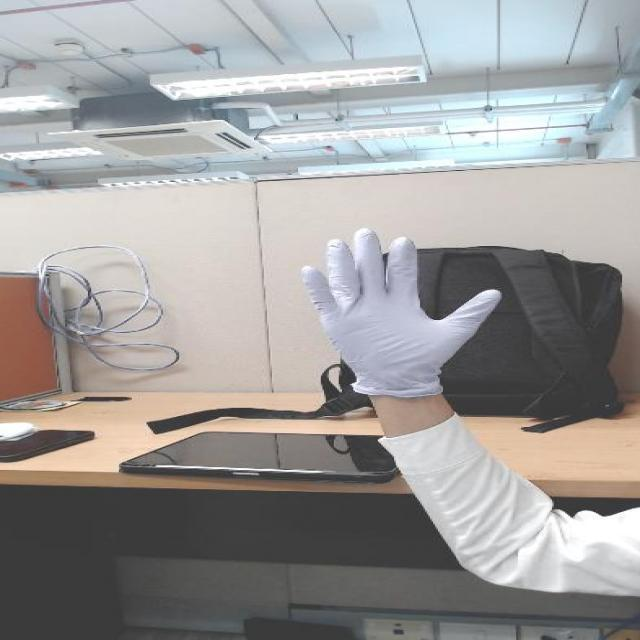Glove: (306, 217, 497, 411)
